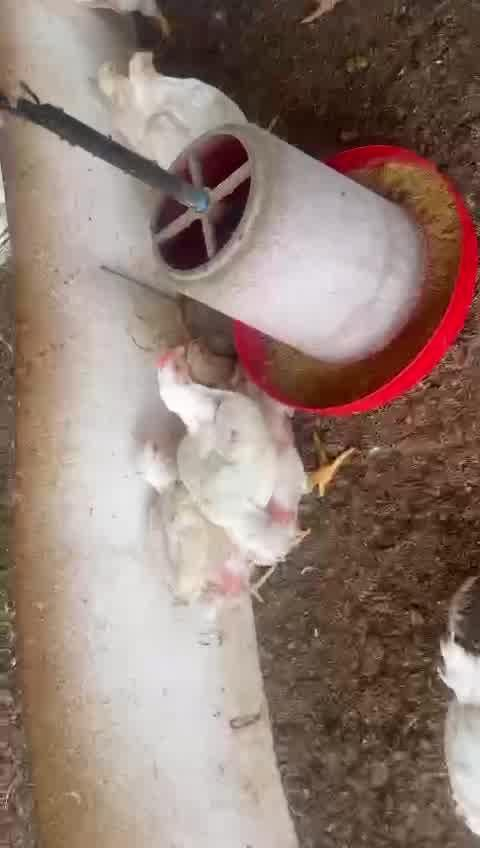Normal: (160, 344, 342, 565), (139, 442, 302, 632), (90, 57, 221, 144), (129, 49, 254, 128)
